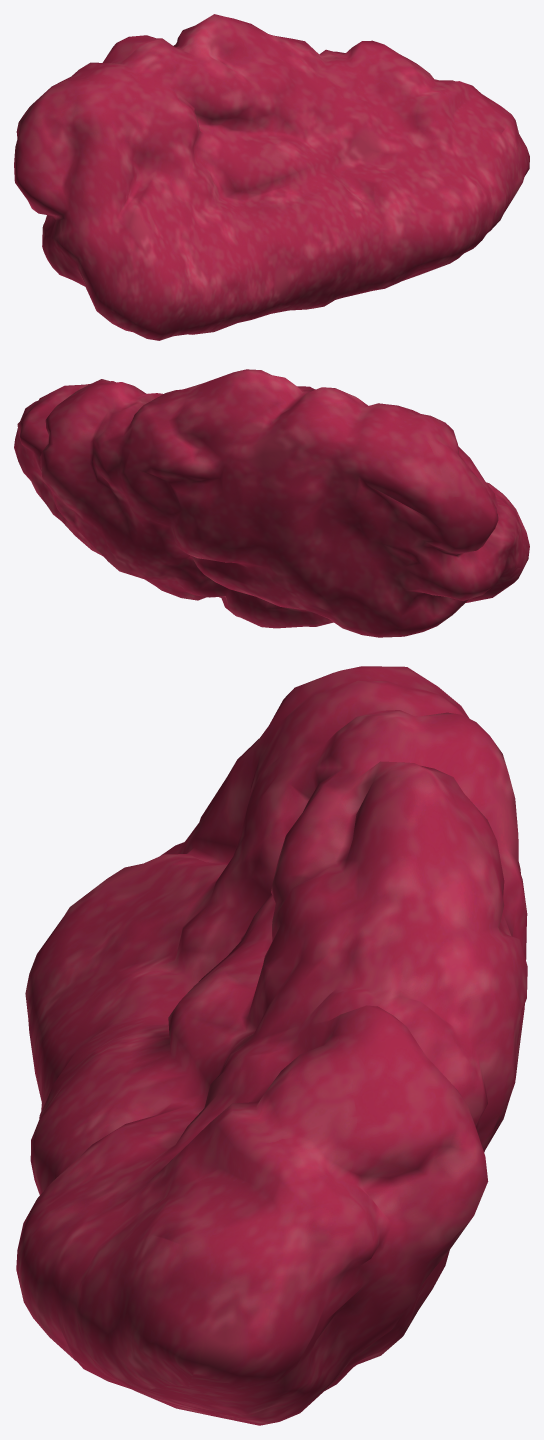
File: SM_e_202_DemonMeatParts_02b.fbx
3 renders of one model, top to bottom at view 1: azimuth 30°, elevation 25°; view 2: azimuth 150°, elevation 25°; view 3: azimuth 270°, elevation 25°, orthographic. The views are drawn at different scales.
Parts seen in each view (by area): view 1: SM_e_202_DemonMeatParts_02b.001; view 2: SM_e_202_DemonMeatParts_02b.001; view 3: SM_e_202_DemonMeatParts_02b.001.
Boxes of the visible parts, left/top/right/bottom form: SM_e_202_DemonMeatParts_02b.001: left=14, top=14, right=529, bottom=340; SM_e_202_DemonMeatParts_02b.001: left=14, top=369, right=529, bottom=637; SM_e_202_DemonMeatParts_02b.001: left=16, top=666, right=527, bottom=1425.
Size of the model in its own units: 9.61 by 5.13 by 4.46.
1 material, 1 textured.
